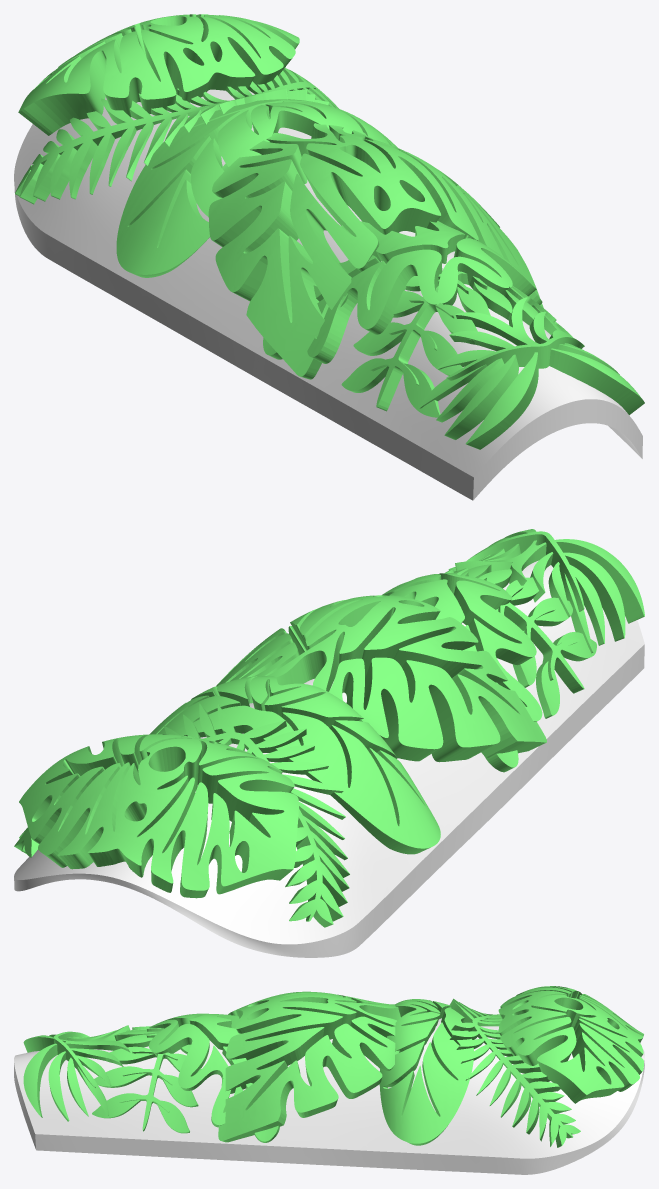
File: jungle-coffin-full.glb
3 renders of one model, top to bottom at view 1: azimuth 30°, elevation 25°; view 2: azimuth 150°, elevation 25°; view 3: azimuth 270°, elevation 25°, orthographic. The views are drawn at different scales.
Size of the model in its own units: 0.0142 by 0.00756 by 0.035.
